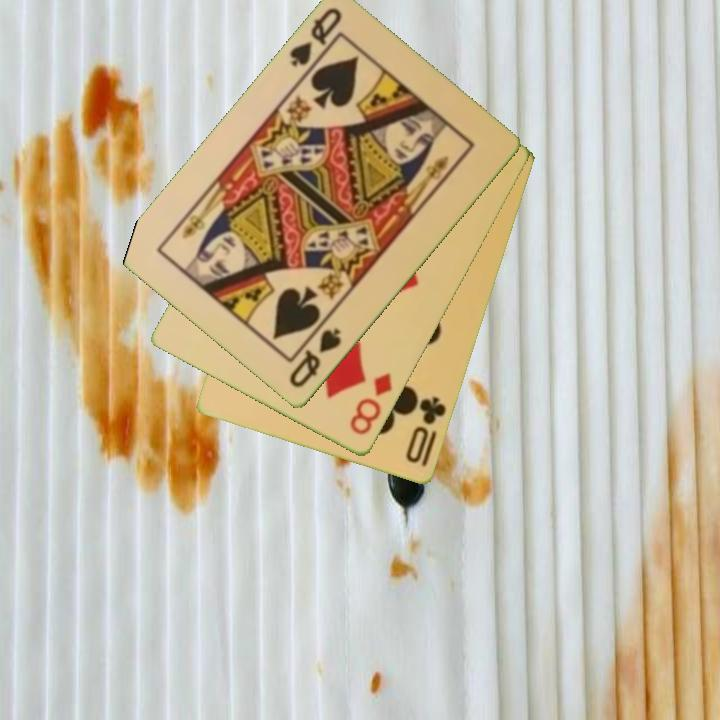10c: (402, 393, 450, 467)
8d: (346, 370, 396, 439)
Qs: (285, 324, 345, 392), (286, 4, 345, 70)
